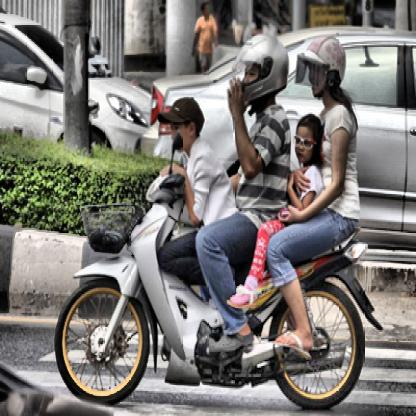not_wear: (172, 98, 201, 154), (294, 115, 322, 164)
wear: (240, 34, 289, 111), (310, 29, 342, 100)
